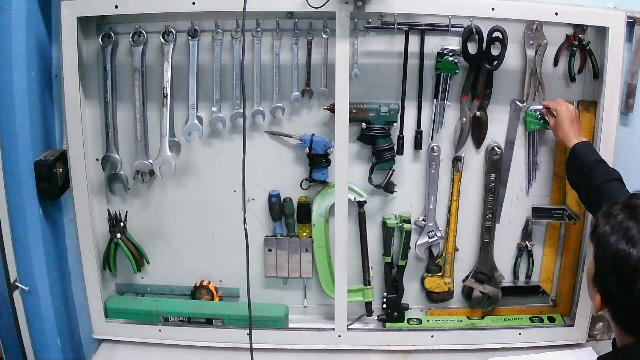kunci_l_bintang: (525, 102, 553, 195)
